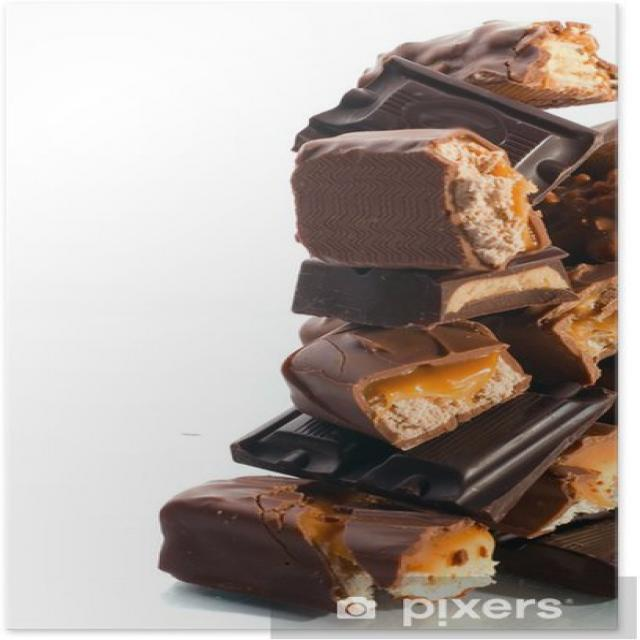Chocolate bar packaged: (278, 59, 606, 213), (152, 471, 508, 609), (278, 130, 544, 274), (265, 316, 539, 449), (358, 14, 634, 112), (272, 244, 589, 326)
